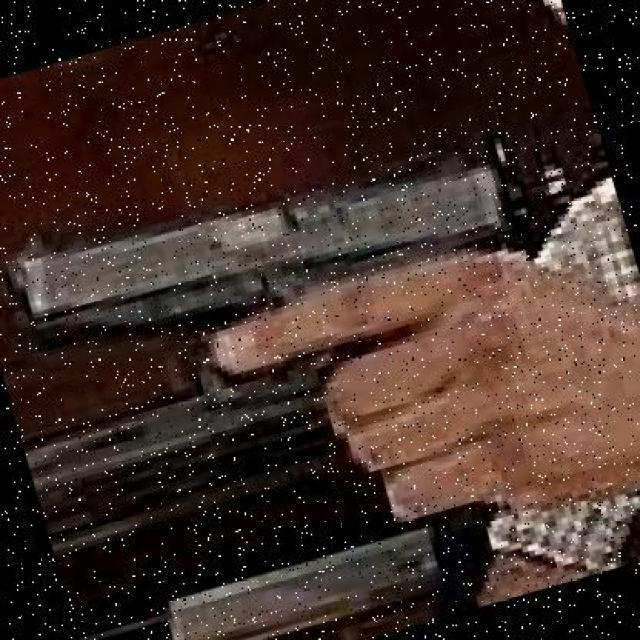rifle: (18, 168, 548, 405)
